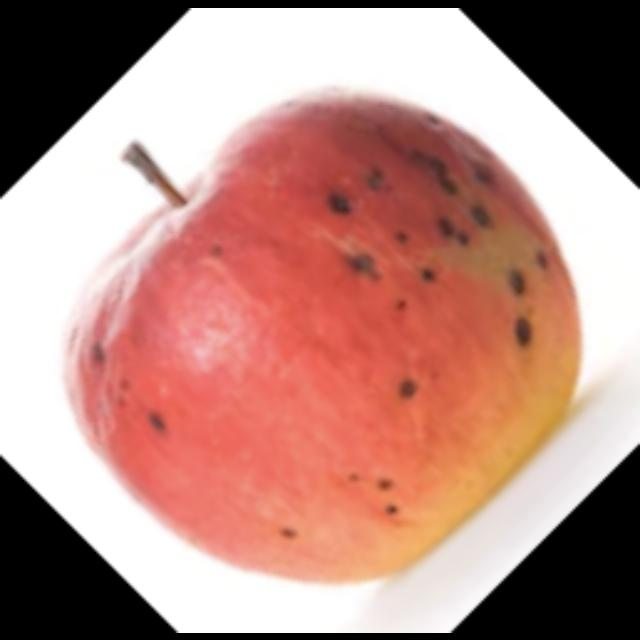Apel Tidak Segar: (67, 89, 580, 588)
